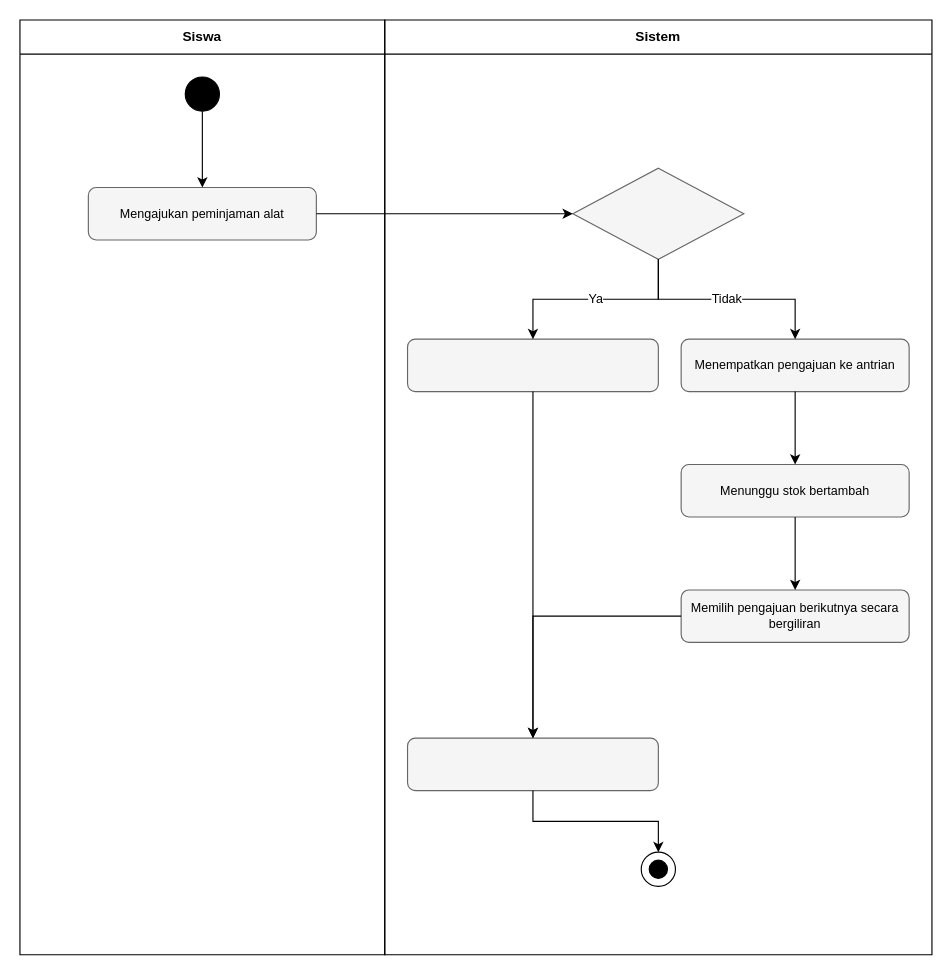
The diagram is 952 pixels wide and 975 high, and some of its shapes have lost their labels. Here are the shapes that lost their labels. From the top down, the centre of each, then its label:
pixel 658 213: Stok tersedia?
pixel 532 365: Memproses langsung (siap ditinjau)
pixel 532 764: Ubah status siap ditinjau & beri tahu siswa
